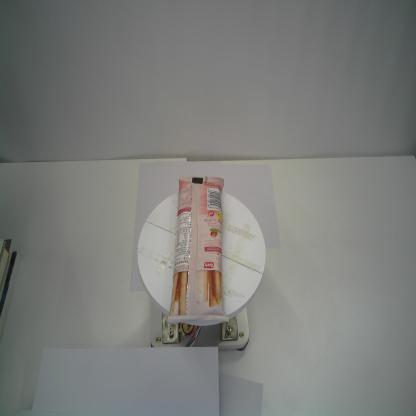Dessert: (166, 173, 231, 328)
